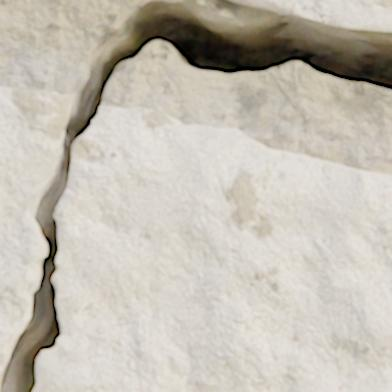brick: (229, 0, 391, 32)
broken_brick: (33, 106, 391, 391), (0, 86, 72, 383)
crack: (0, 0, 391, 391)
